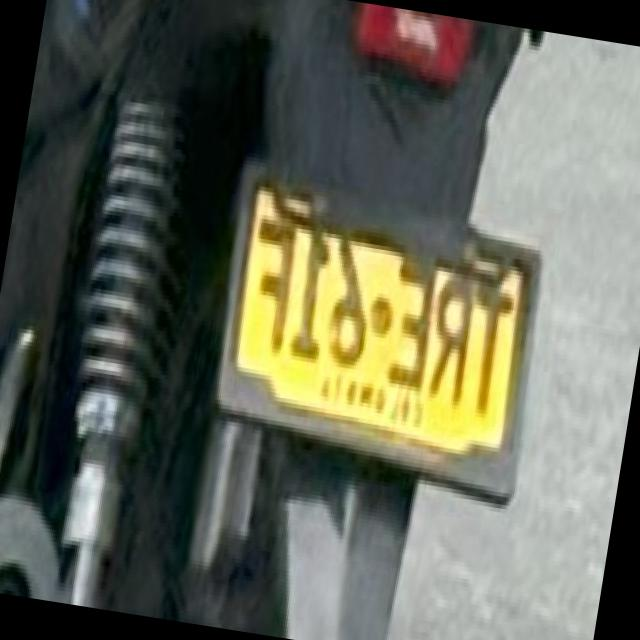number plate: (222, 164, 542, 494)
